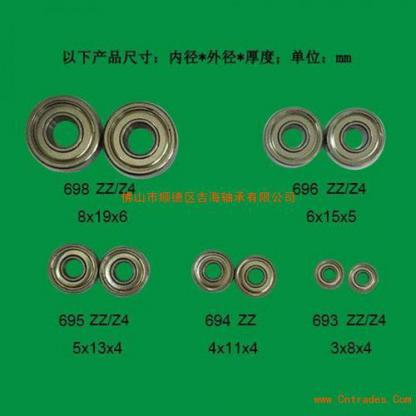FOD: (22, 95, 102, 176), (102, 100, 178, 180), (260, 105, 324, 171), (325, 106, 387, 173), (99, 244, 150, 298), (48, 242, 97, 295), (190, 250, 233, 296), (234, 254, 275, 301), (311, 258, 345, 293), (347, 260, 379, 295)
